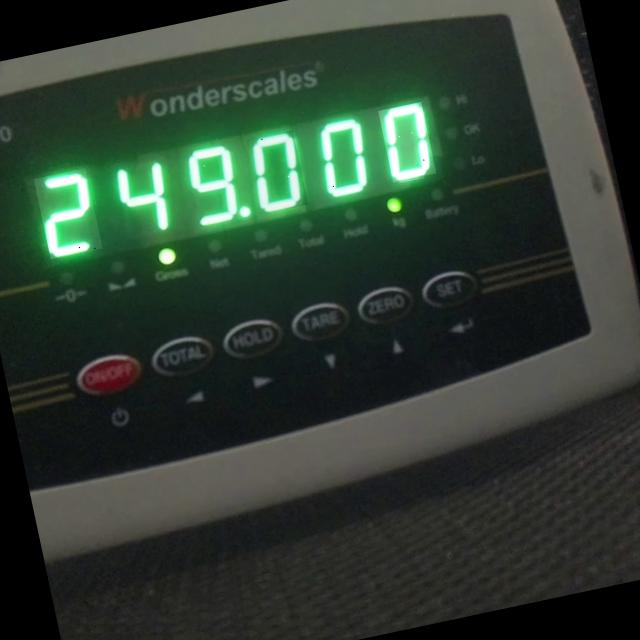.: (234, 203, 251, 219)
0: (246, 130, 309, 213), (313, 116, 374, 198), (378, 102, 437, 184)
2: (34, 168, 104, 258)
4: (113, 158, 174, 239)
9: (182, 141, 245, 227)
